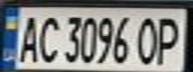0: (78, 12, 96, 64)
3: (60, 12, 84, 64)
6: (112, 12, 136, 65)
9: (97, 12, 118, 64)
A: (12, 11, 42, 64)
C: (33, 12, 63, 64)
O: (133, 12, 163, 65)
P: (151, 12, 187, 66)
